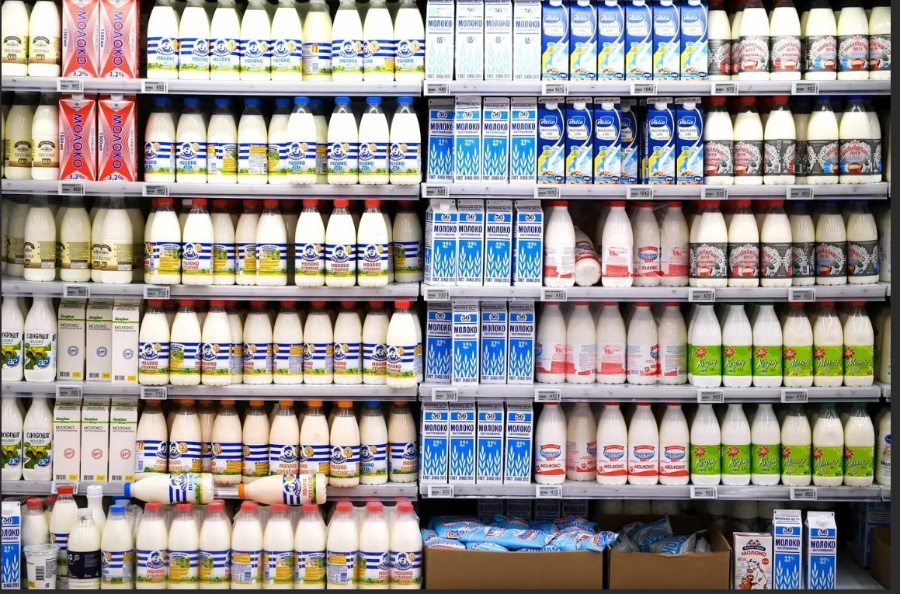milk: (385, 92, 431, 188), (323, 95, 367, 192), (623, 400, 668, 491), (231, 96, 274, 189), (383, 299, 426, 392), (283, 95, 326, 186), (173, 96, 215, 188), (253, 200, 295, 291), (694, 199, 734, 293), (748, 402, 792, 486), (197, 298, 238, 388), (326, 400, 367, 490), (321, 196, 361, 288), (178, 196, 218, 288), (686, 303, 729, 388), (148, 196, 187, 289), (143, 96, 182, 189), (358, 94, 396, 189), (720, 302, 761, 390), (656, 400, 696, 490), (169, 296, 208, 388), (595, 402, 637, 486), (288, 196, 327, 286), (207, 97, 246, 187), (688, 401, 727, 491), (356, 197, 392, 292), (137, 302, 175, 389), (533, 402, 569, 486), (722, 403, 755, 489)
